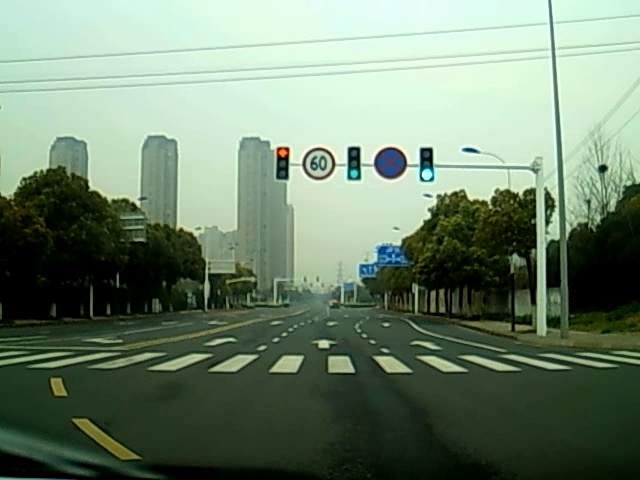Traffic_Light_go: (346, 146, 361, 182), (420, 148, 434, 183)
Traffic_Light_stop: (274, 148, 291, 182)
